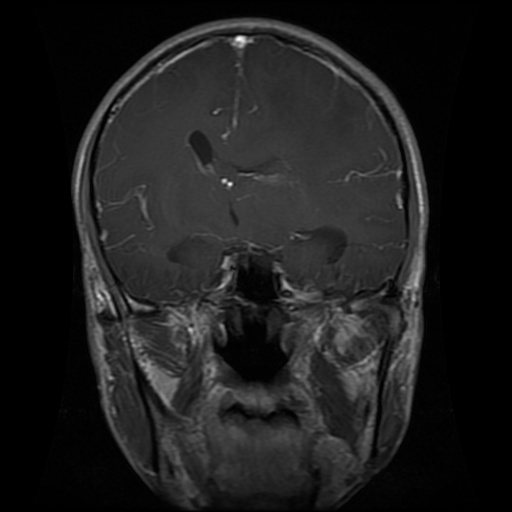glioma: (212, 154, 298, 189)
